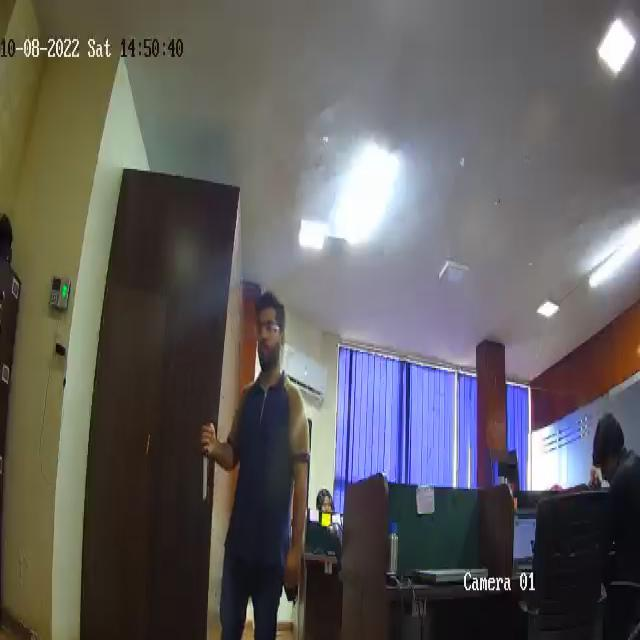Knife: (199, 420, 208, 500)
